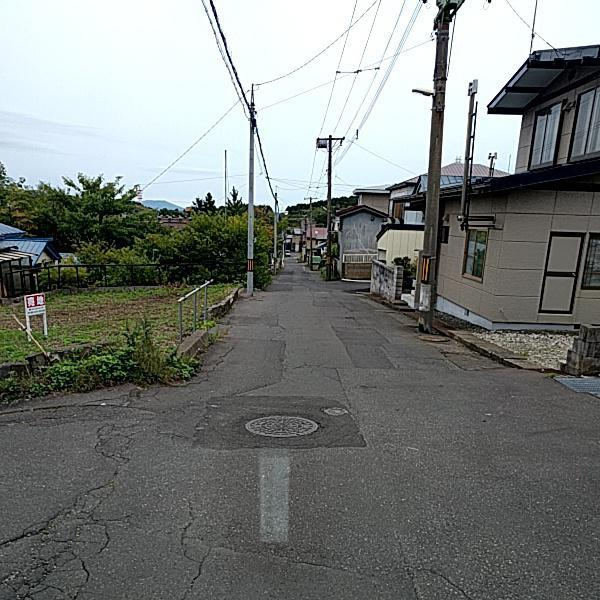D00: (192, 337, 238, 386), (422, 567, 476, 599)
D20: (0, 395, 222, 598)
D50: (244, 414, 319, 436), (323, 404, 349, 415)
